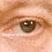eye: (20, 21, 36, 33)
